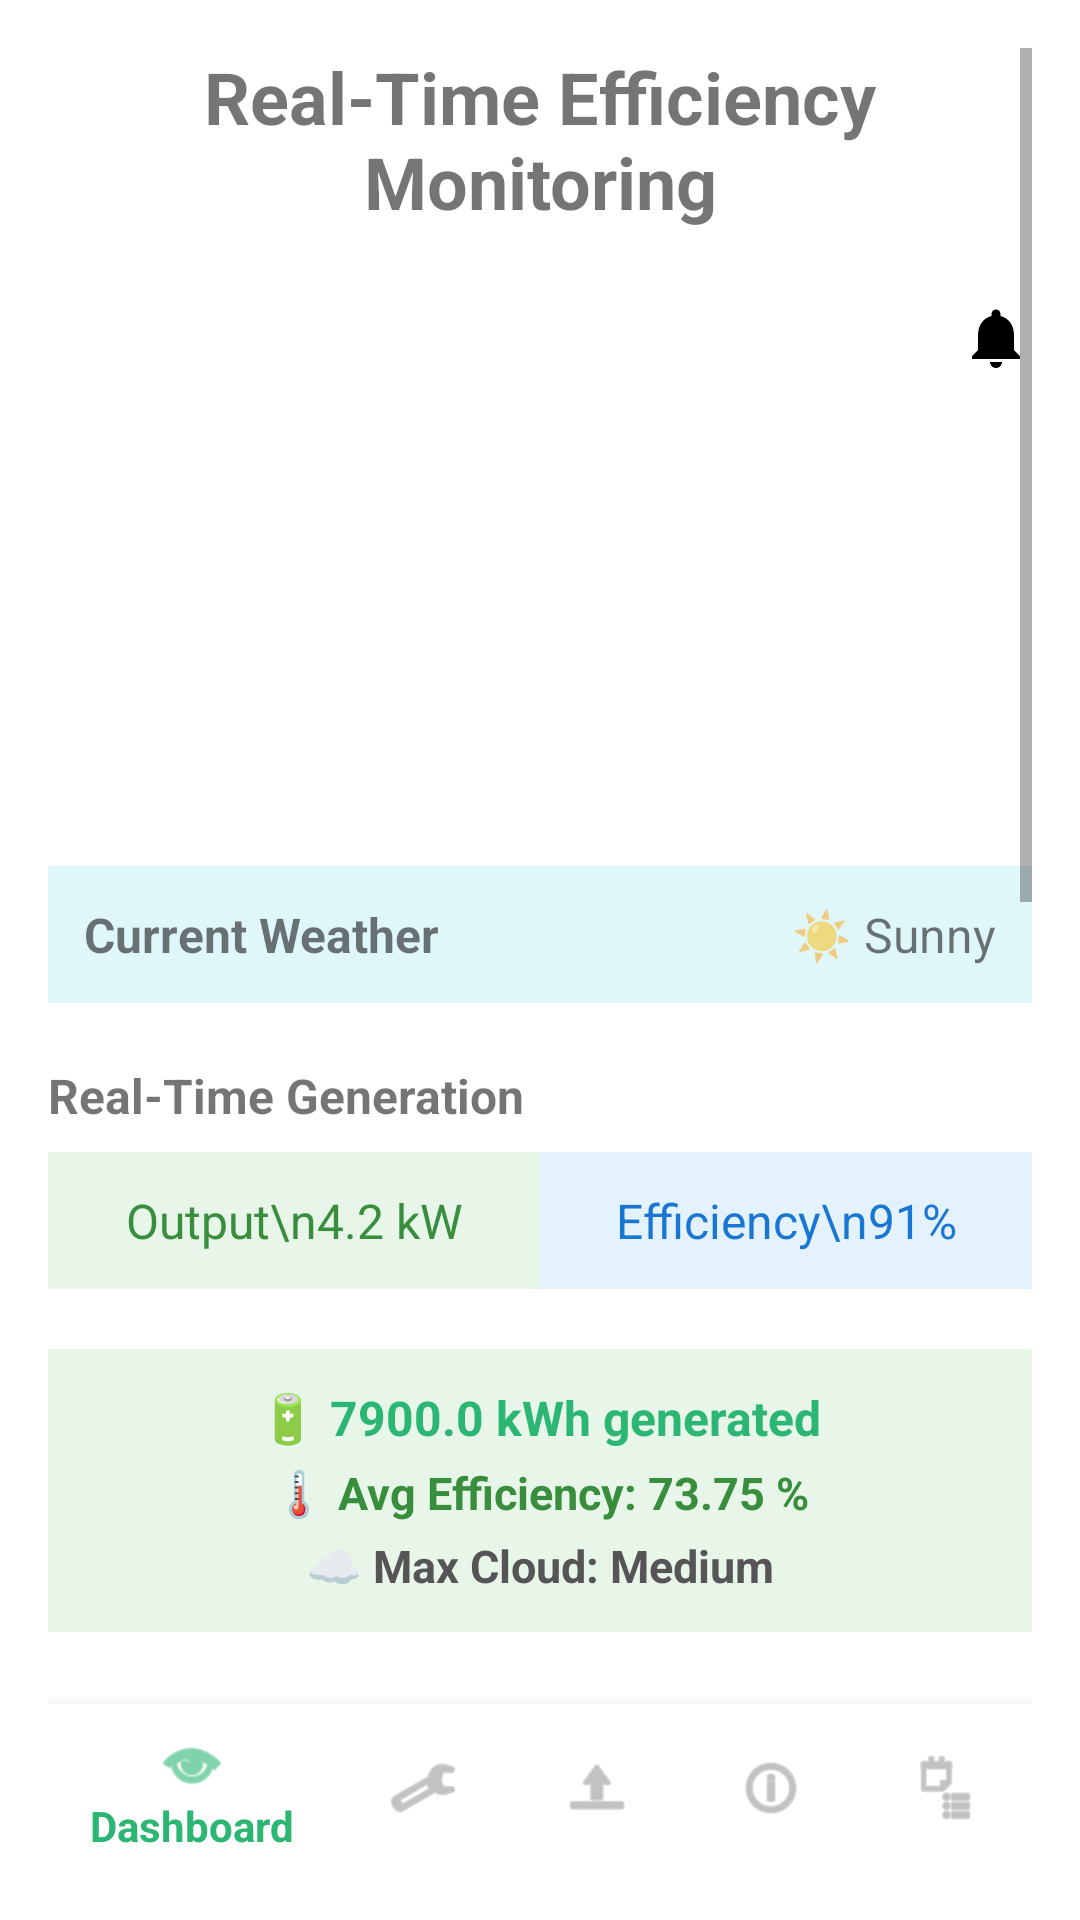

Where icons sit on this 1080w x 1920h app screen, as (x1, y1, x2, y2):
Notifications: (972, 302, 1032, 374)
